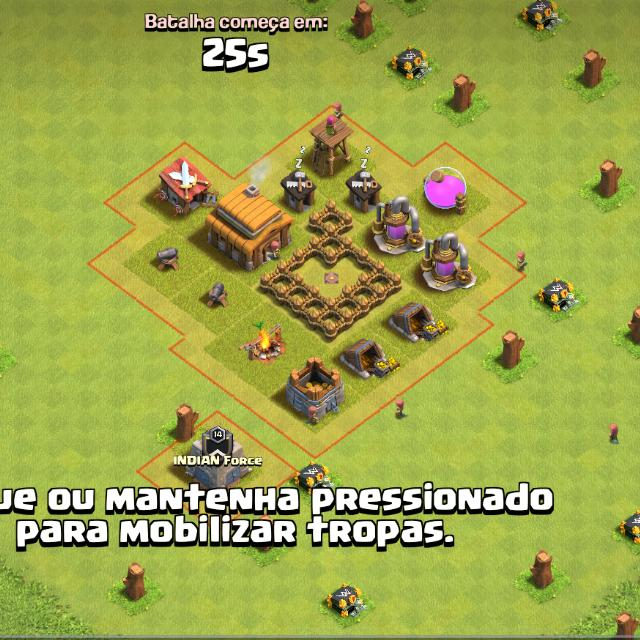Arqueira: (309, 114, 353, 176)
Canhao: (152, 242, 183, 272), (200, 280, 231, 308)
